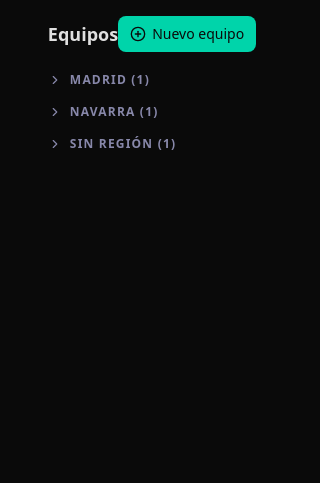
Test: AdminEquiposPage › opens create form when clicking Nuevo equipo
Click the button "Nuevo equipo": coordinates (187, 34) [118,16,256,52]
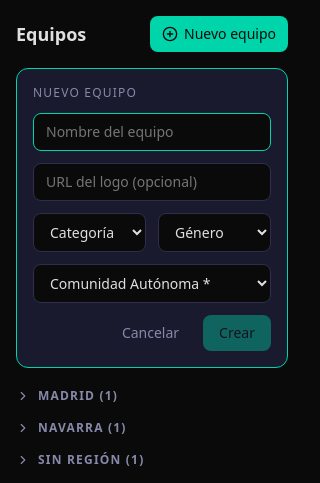
Expected: the field with placeholder "Nombre del equipo" is shown, [33,113,271,151]
Expected: the button "Crear" is shown, [203,315,271,351]
